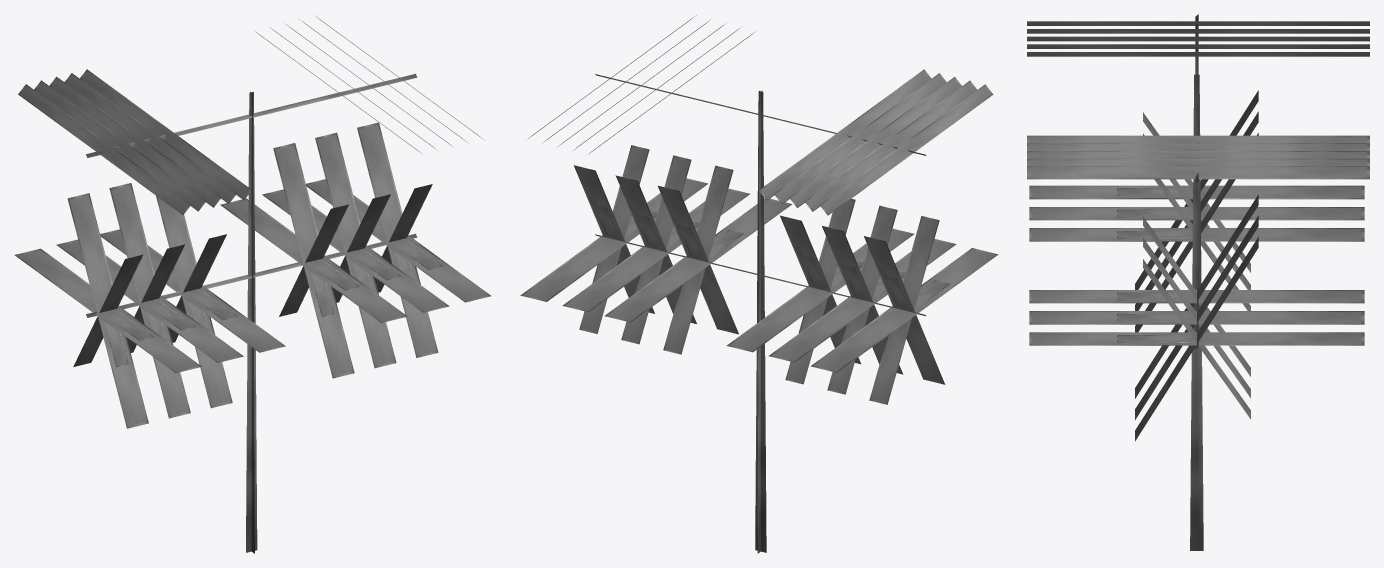
The model's file is antenna_9.obj.
The picture shows the model from 3 angles, left to right: view 1: azimuth 30°, elevation 25°; view 2: azimuth 150°, elevation 25°; view 3: azimuth 270°, elevation 25°; orthographic projection. The views are drawn at different scales.
Visible parts, largest first — view 1: antenna_9; view 2: antenna_9; view 3: antenna_9.
Part boxes in pixels (x1=…): antenna_9: x1=14, y1=16, x2=491, y2=553; antenna_9: x1=520, y1=15, x2=998, y2=553; antenna_9: x1=1027, y1=14, x2=1369, y2=550.
Bounding box in the file's own units: 1.09 × 1.46 × 0.9495.
1 material, 1 textured.
